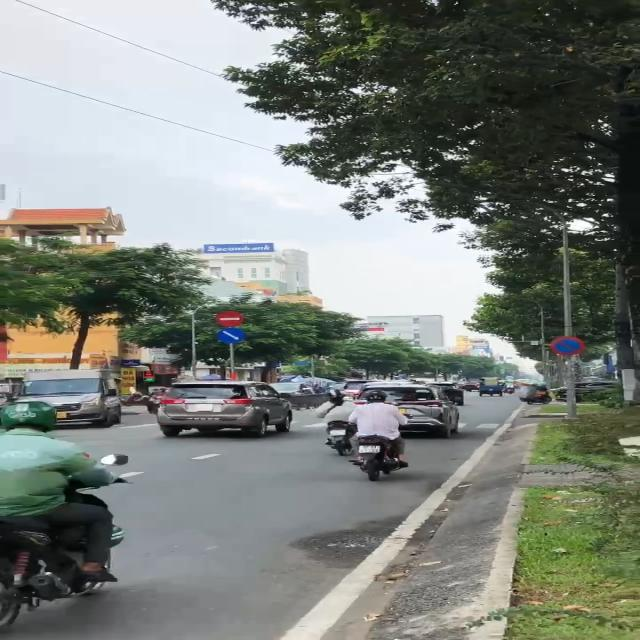Bien bao cam di nguoc chieu: (214, 310, 245, 328)
Bien bao huong phai di vong chuong ngai vat: (216, 328, 251, 346)
